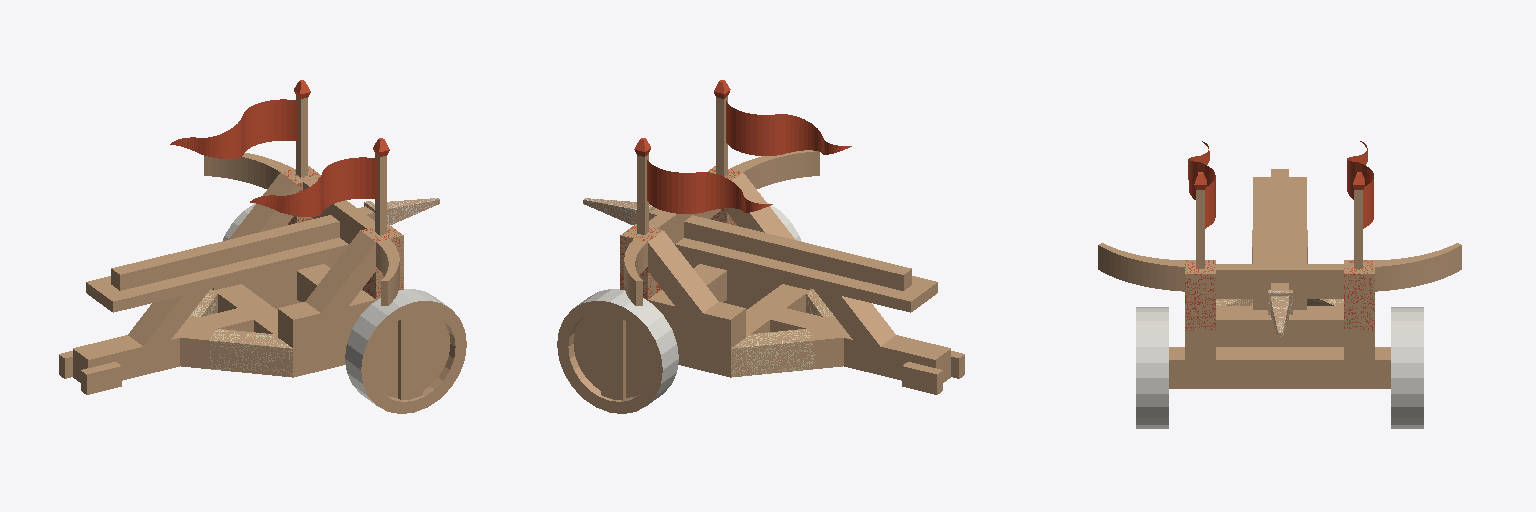
File: siegeBallistaRed.obj
3 views of the same model, side by side, from view 1: azimuth 30°, elevation 25°; view 2: azimuth 150°, elevation 25°; view 3: azimuth 270°, elevation 25° (orthographic).
Parts seen in each view (by area): view 1: body 5, wheelFrontRight 10, arrow 2, flag 21, flag 20; view 2: body 5, wheelFrontLeft 10, arrow 2, flag 21, flag 20; view 3: body 5, wheelFrontLeft 10, wheelFrontRight 10, arrow 2, flag 20, flag 21.
Boxes of the visible parts, x1=… form: body 5: x1=59, y1=153, x2=403, y2=394; wheelFrontRight 10: x1=345, y1=289, x2=466, y2=413; arrow 2: x1=111, y1=198, x2=439, y2=290; flag 21: x1=170, y1=80, x2=310, y2=177; flag 20: x1=250, y1=138, x2=389, y2=234; body 5: x1=620, y1=150, x2=964, y2=394; wheelFrontLeft 10: x1=557, y1=289, x2=678, y2=413; arrow 2: x1=583, y1=198, x2=911, y2=290; flag 21: x1=634, y1=138, x2=772, y2=234; flag 20: x1=714, y1=80, x2=851, y2=176; body 5: x1=1098, y1=177, x2=1461, y2=388; wheelFrontLeft 10: x1=1391, y1=307, x2=1423, y2=428; wheelFrontRight 10: x1=1136, y1=307, x2=1168, y2=428; arrow 2: x1=1268, y1=169, x2=1292, y2=336; flag 20: x1=1188, y1=141, x2=1215, y2=268; flag 21: x1=1347, y1=141, x2=1373, y2=268.
Bounding box in the file's own units: 13.96 × 9.1 × 11.98.